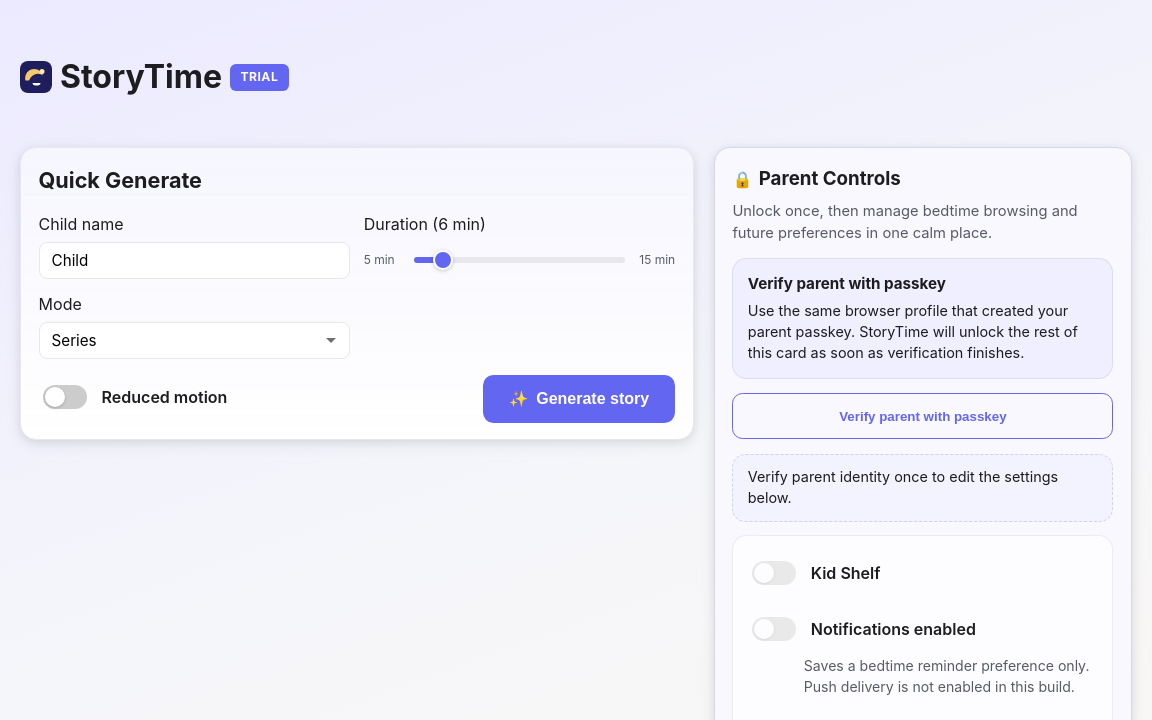
it: App › shows plain-language cooldown guidance when generation is rate limited
This screenshot has width=1152, height=720.
Click the button "✨ Generate story" at [579, 399], box [483,375,675,423]
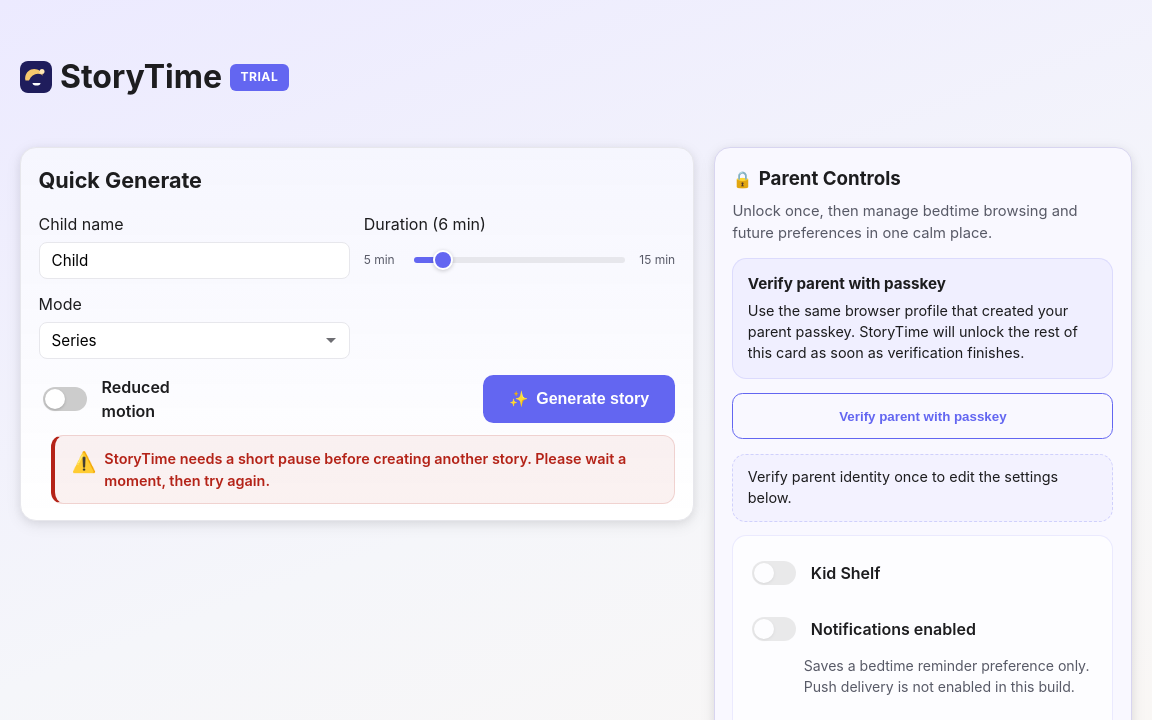
Now the text "StoryTime needs a short pause before creating another story. Please wait a moment, then try again." is shown, box [104,450,626,489]
